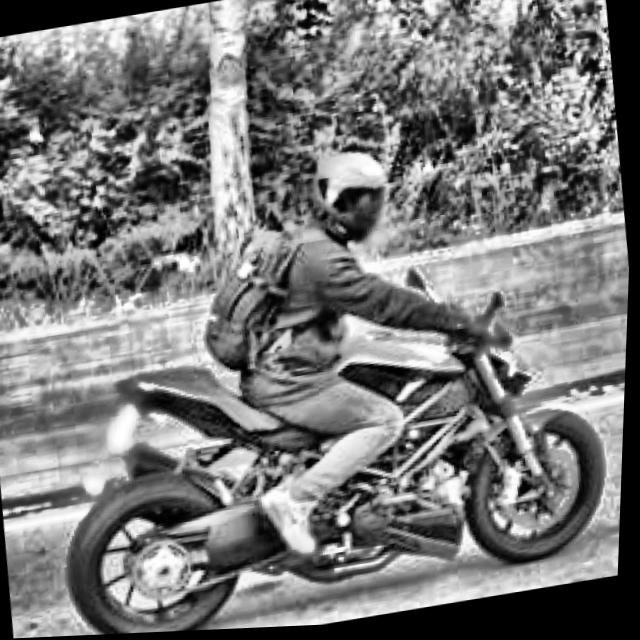motorcycle: (34, 240, 632, 638)
